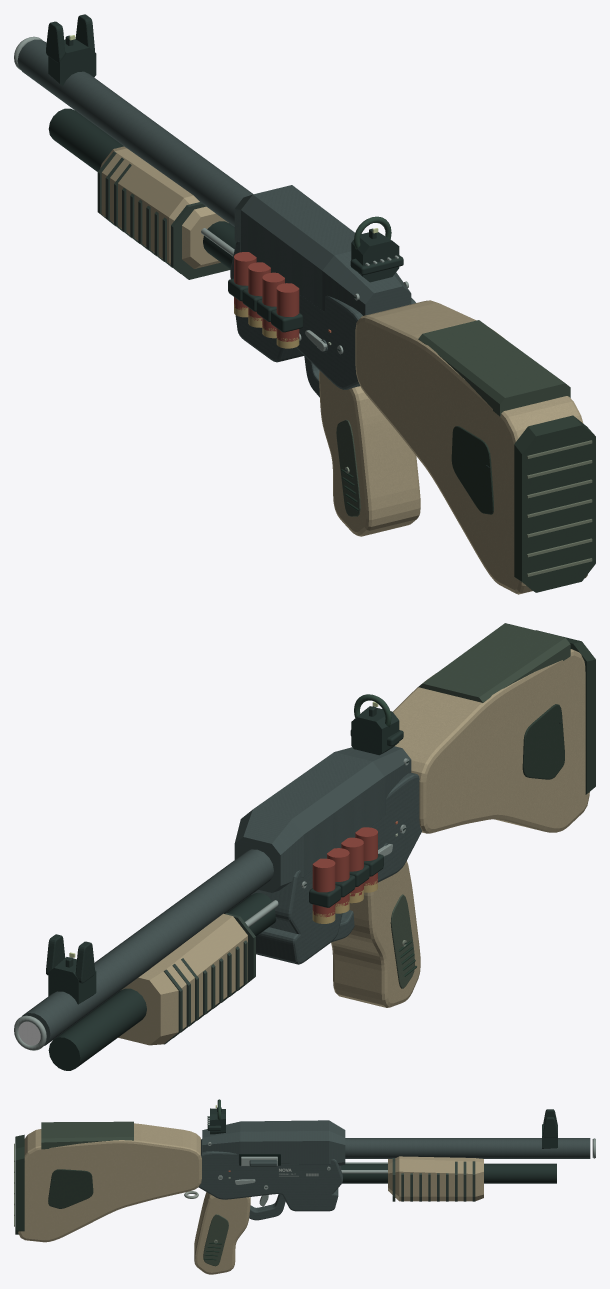
The model's file is nova.glb.
The picture shows the model from 3 angles, top to bottom: view 1: azimuth 30°, elevation 25°; view 2: azimuth 150°, elevation 25°; view 3: azimuth 270°, elevation 25°; orthographic projection. The views are drawn at different scales.
Visible parts, largest first — view 1: nova, pump; view 2: nova, pump; view 3: nova, pump, bolt.
Part boxes in pixels (x1,y1,x2,y2): nova: (14, 14, 595, 594); pump: (97, 146, 230, 279); nova: (14, 623, 595, 1070); pump: (118, 913, 255, 1045); nova: (14, 1099, 595, 1274); pump: (388, 1156, 483, 1201); bolt: (241, 1156, 277, 1166).
Bounding box in the file's own units: 0.17 × 0.4997 × 1.57.
24 materials, 17 textured.
